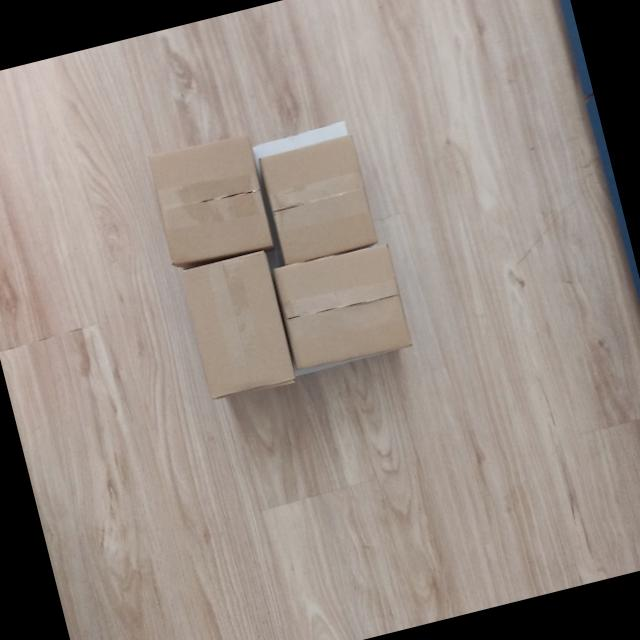box: (171, 245, 305, 410), (268, 238, 418, 378), (140, 129, 279, 272), (250, 127, 384, 270)
